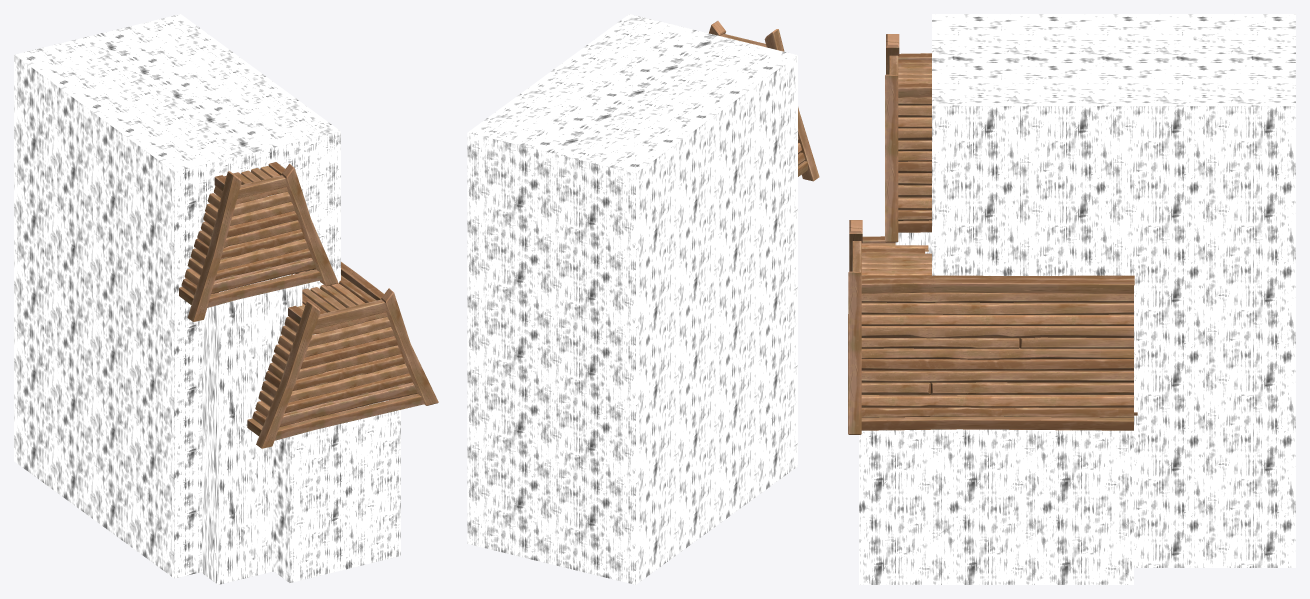
Rendered from SM_BuildingBase_08.fbx.
3 renders of one model, left to right at view 1: azimuth 30°, elevation 25°; view 2: azimuth 150°, elevation 25°; view 3: azimuth 270°, elevation 25°, orthographic. The views are drawn at different scales.
Visible parts, largest first — view 1: SM_BuildingBase_08_LOD0; view 2: SM_BuildingBase_08_LOD0; view 3: SM_BuildingBase_08_LOD0.
Boxes of the visible parts, x1,y1,x2,y2 form: SM_BuildingBase_08_LOD0: [14, 14, 438, 584]; SM_BuildingBase_08_LOD0: [467, 14, 819, 584]; SM_BuildingBase_08_LOD0: [848, 14, 1295, 584].
Bounding box in the file's own units: 824 × 1230 × 1411.
3 materials, 3 textured.
